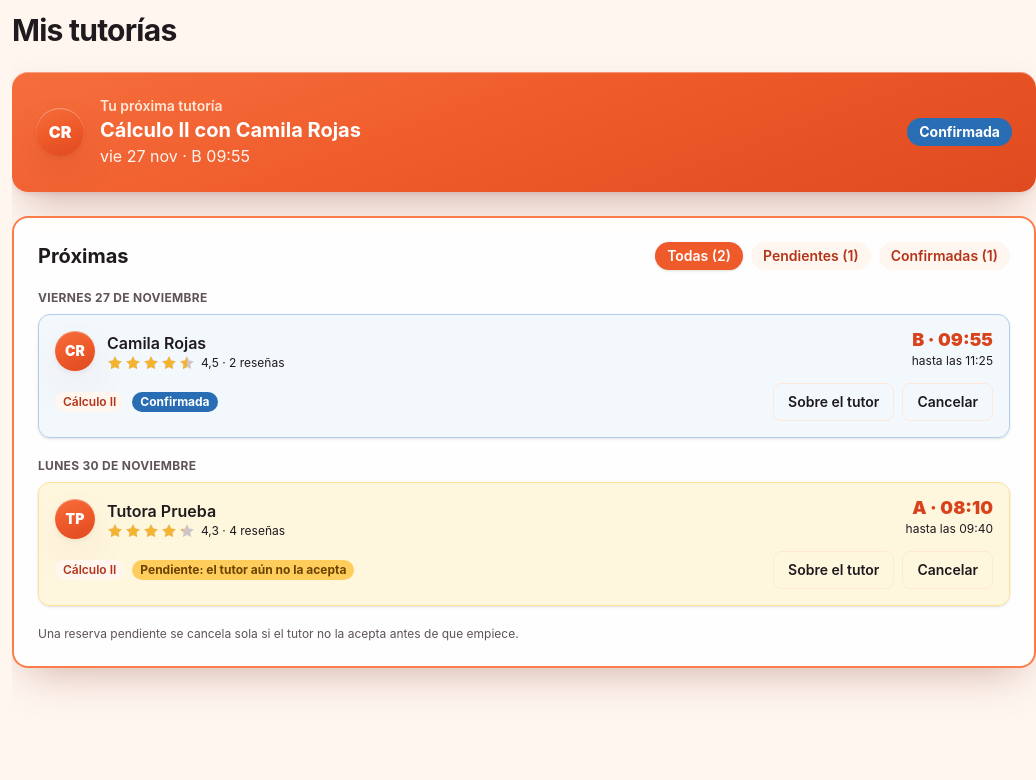
Test: Mis tutorías › destaca la próxima, filtra por estado y cancela
This screenshot has width=1036, height=780.
Check: the text "Cálculo II con Camila Rojas" is shown, box [100,118,361,142]
Check: the heading "Viernes 27 de noviembre" is shown, box [38,290,208,305]
Click the button "Pendientes (1)".
click(811, 256)  # box [751,242,871,270]
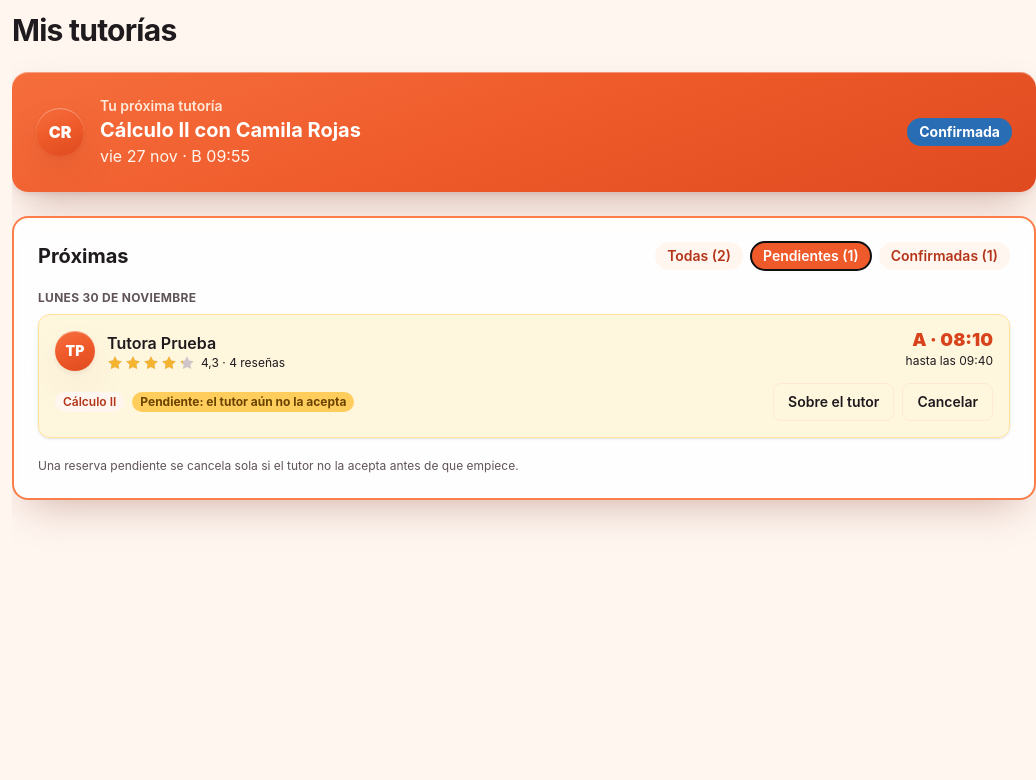
Check: the heading "Viernes 27 de noviembre" is gone
Click the button "Cancelar".
click(948, 402)  # box [902,383,993,421]
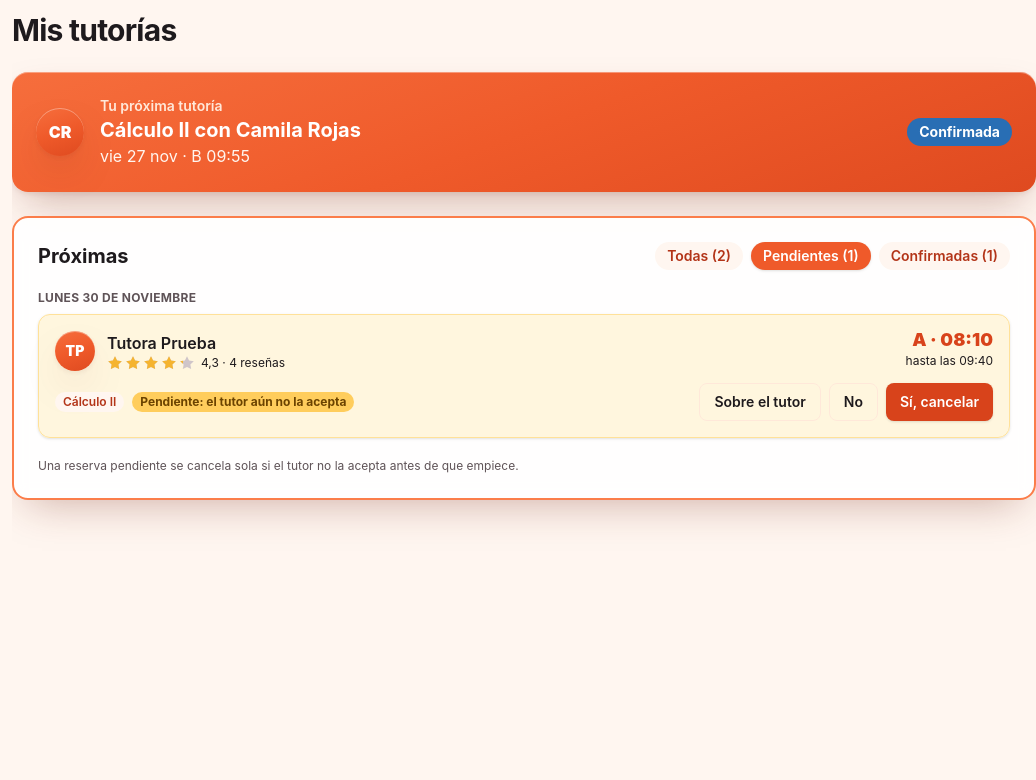
Click the button "Sí, cancelar".
click(939, 402)  # box [886,383,993,421]
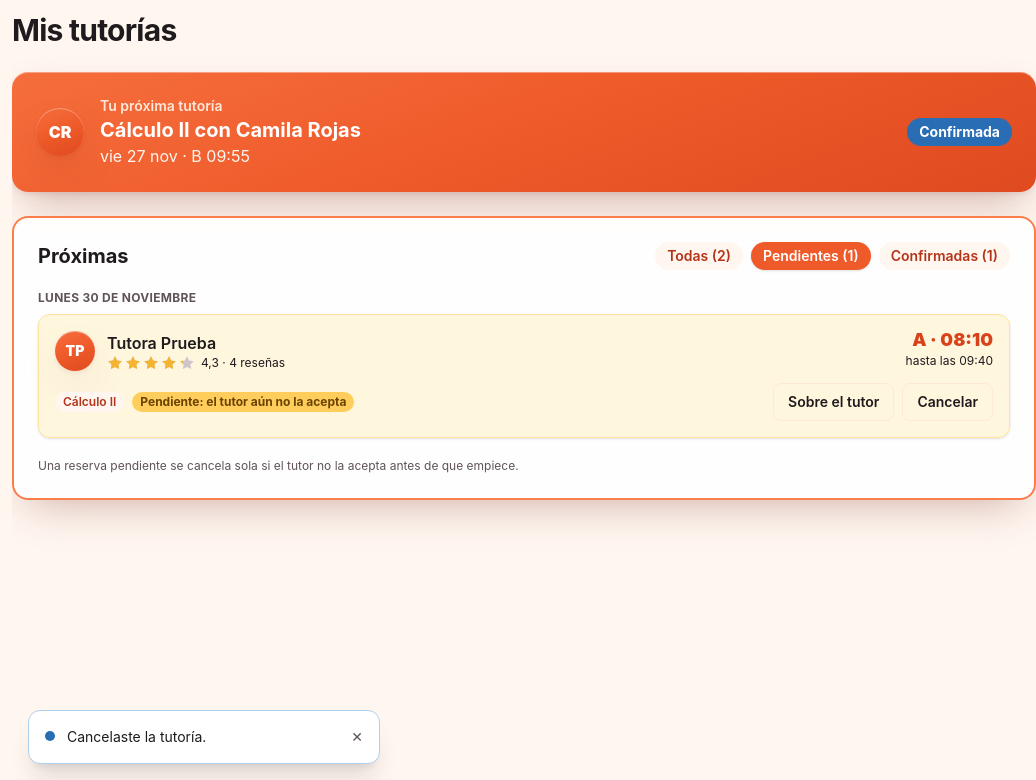
Check: the text "Cancelaste la tutoría." is shown, box [67,728,206,745]
